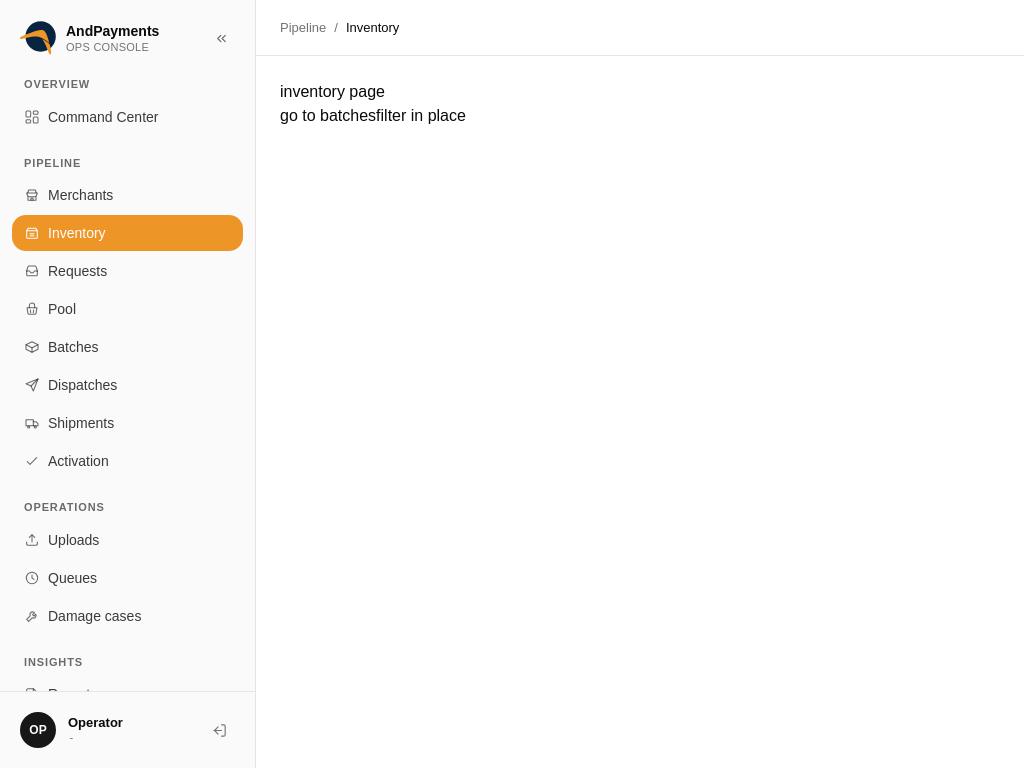
Test: AppShell scroll reset › scrolls the shell back to the top when the route changes
(page scrolled)
Click the link "go to batches" at (328, 116), box x1=280 y1=107 x2=376 y2=124
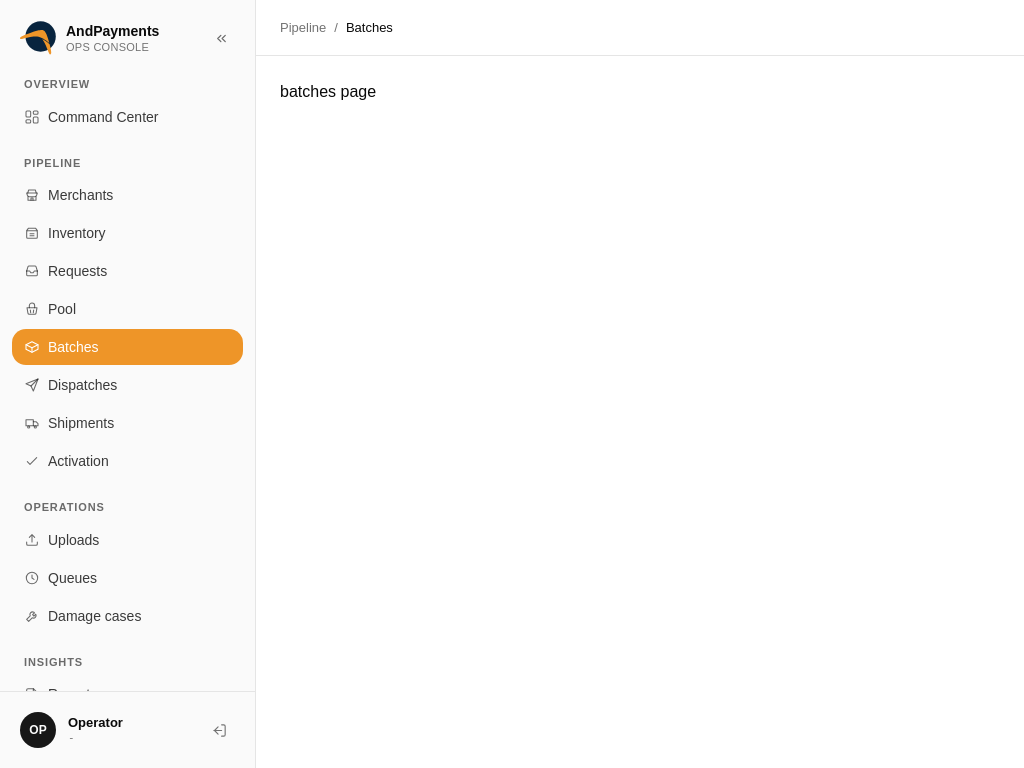
Result: the text "batches page" is shown at x1=280 y1=83 x2=376 y2=100
